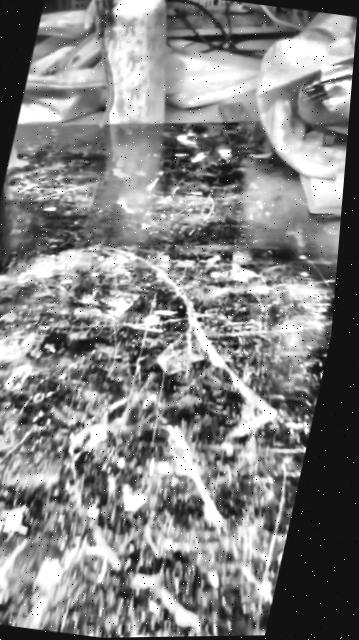pot: (0, 150, 30, 293)
